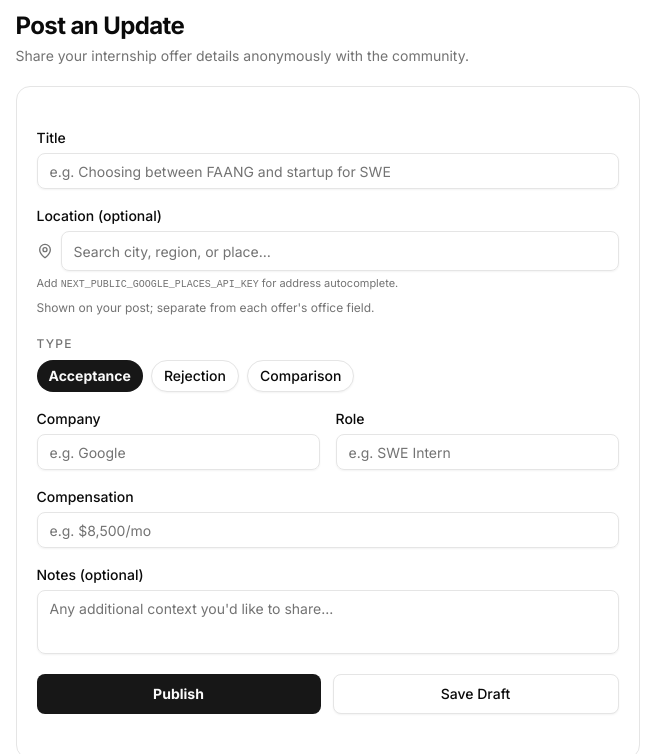
it: SubmitOfferForm › shows validation error when company is missing for acceptance type
Type "My Post" into the field labelled "Title". click: (328, 171)
box: [36, 153, 618, 189]
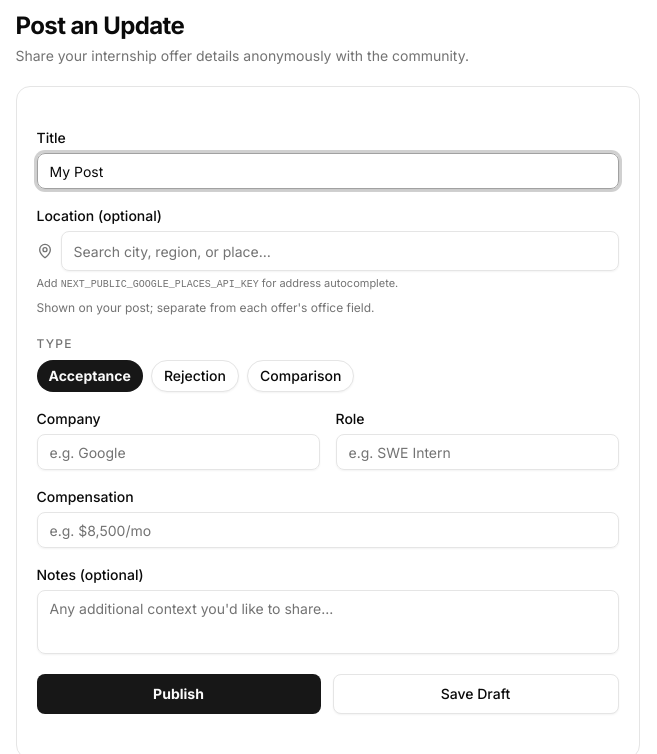
Click the button "Publish". click: click(178, 694)
box: [36, 674, 320, 714]
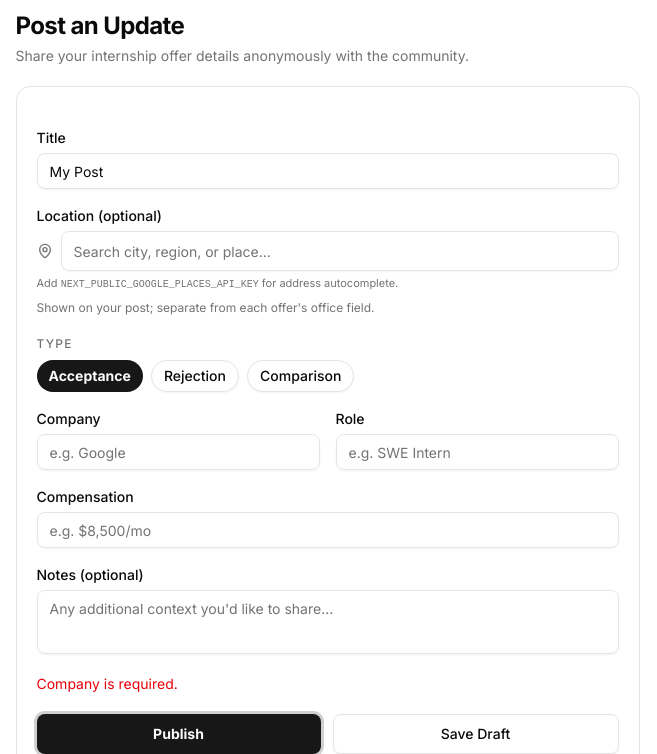
Expected: the text "Company is required." is shown, [36, 675, 178, 692]
